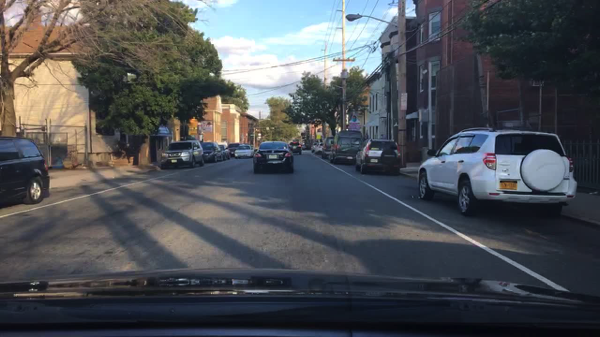car: (417, 128, 576, 216), (0, 136, 49, 206), (356, 139, 400, 174), (252, 141, 294, 173), (160, 141, 204, 169), (327, 132, 362, 163), (200, 142, 224, 162), (234, 144, 254, 158), (321, 136, 333, 158), (217, 143, 230, 161), (288, 141, 301, 154), (228, 143, 239, 158), (313, 142, 323, 155), (310, 142, 317, 153), (301, 145, 306, 150)
traffic sign: (401, 93, 406, 110), (189, 127, 197, 134), (347, 124, 360, 128), (190, 124, 198, 127), (257, 136, 262, 140), (316, 135, 320, 139), (257, 132, 261, 136), (266, 126, 269, 131), (348, 129, 360, 130)
